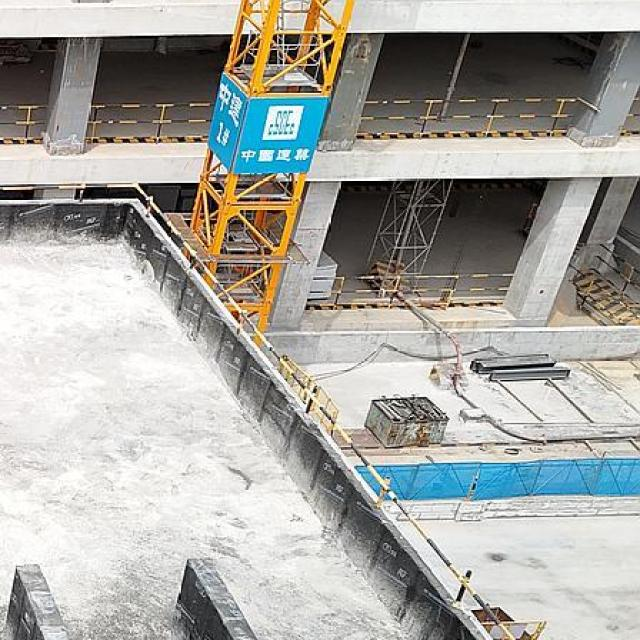edge_guardrail: (0, 183, 516, 640), (360, 96, 580, 134), (306, 273, 516, 307), (563, 242, 640, 322), (85, 101, 218, 139), (0, 104, 56, 140), (625, 112, 640, 118)
